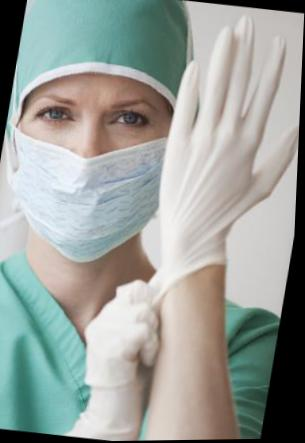WRONG: (1, 68, 187, 268)
